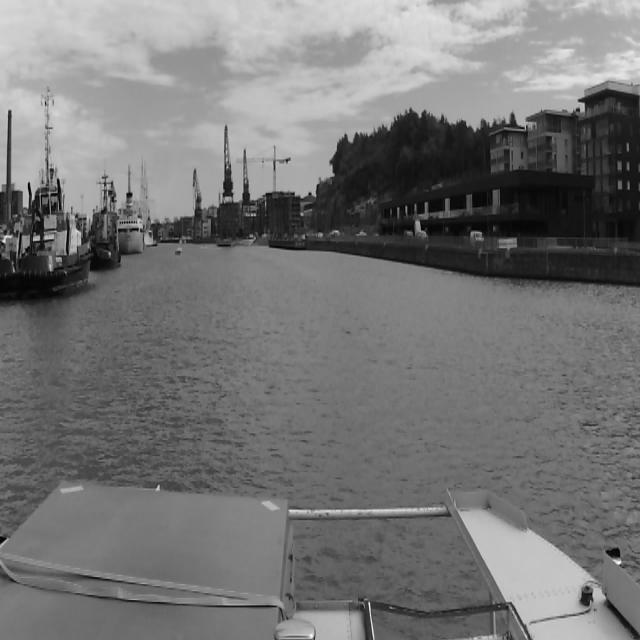ship: (7, 182, 89, 310), (92, 165, 120, 266), (116, 163, 146, 255), (174, 244, 183, 258)
